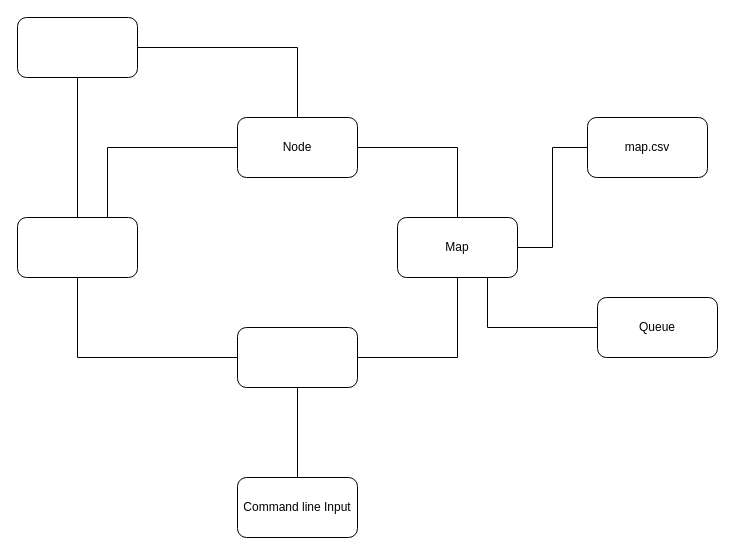
The diagram is 735 pixels wide and 555 high, and some of its shapes have lost their labels. Here are the shapes that lost their labels. From the top down, the centre of each, then its label:
(77,47): Person
(77,247): PersonManager
(297,357): Main
